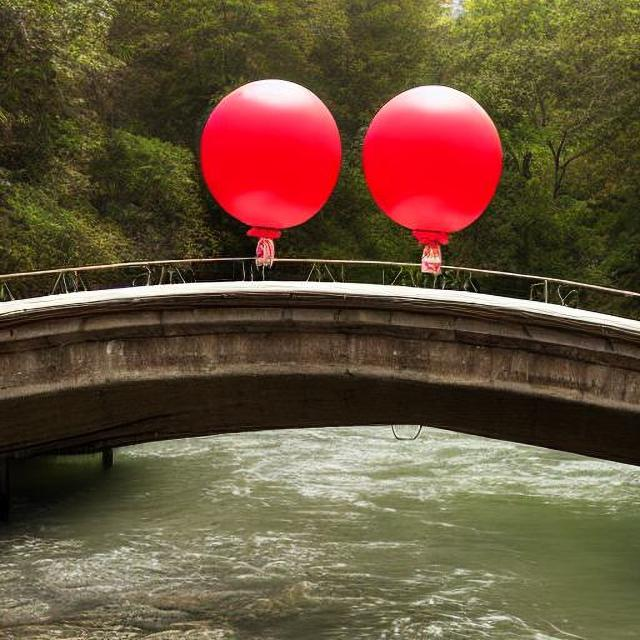balloon: (354, 84, 501, 271), (188, 78, 346, 245)
